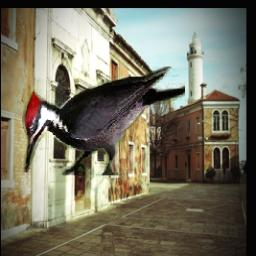Woodpecker: (24, 67, 186, 175)
